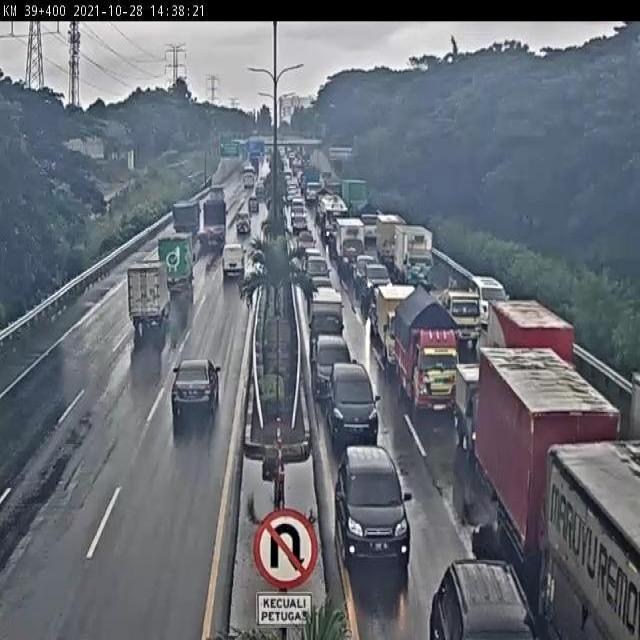big truck: (477, 343, 602, 553), (551, 442, 640, 640), (486, 300, 576, 412), (167, 196, 203, 240)
car: (422, 546, 534, 640), (336, 445, 414, 568), (165, 344, 236, 429), (328, 363, 379, 441), (313, 332, 357, 407), (472, 277, 509, 331), (216, 247, 249, 297), (362, 265, 389, 308), (233, 211, 258, 245), (243, 195, 263, 213)
small truck: (396, 294, 467, 414), (373, 274, 428, 366), (456, 361, 503, 468), (120, 249, 171, 335), (154, 235, 194, 304), (440, 280, 479, 344), (396, 227, 439, 285), (377, 212, 410, 281), (445, 286, 482, 342), (335, 219, 368, 273), (201, 192, 230, 252)
